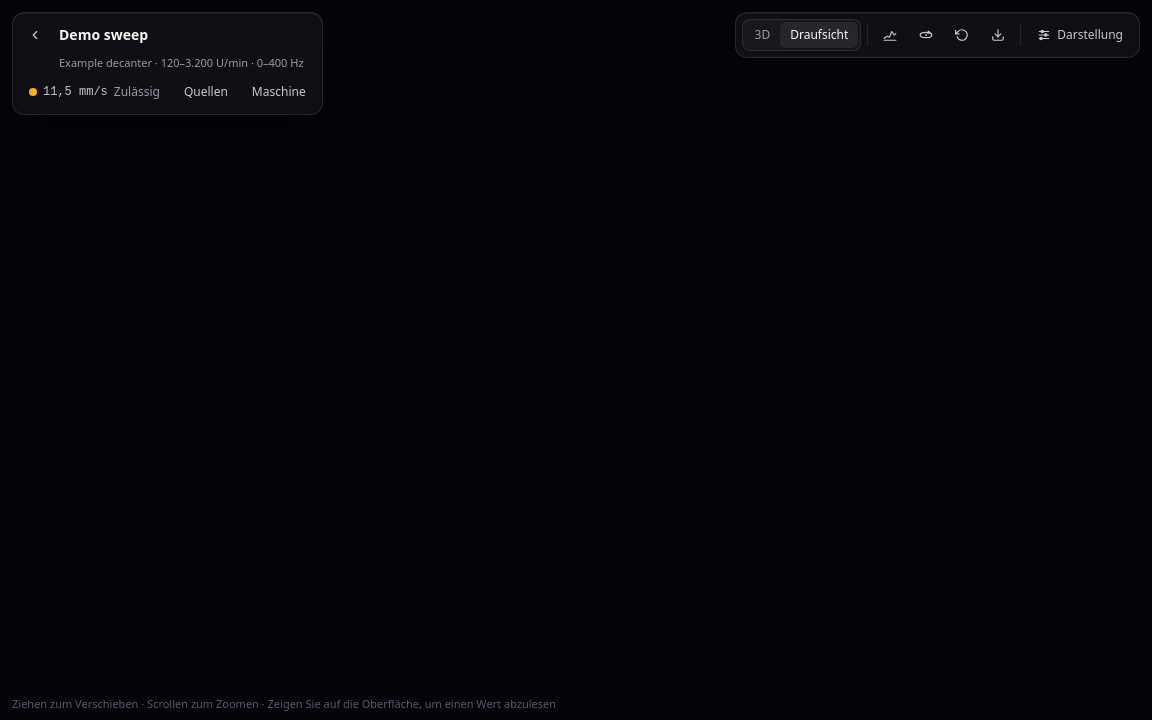
Test: Workspace › jumps from the rating to the bowl diameter
Click the tab with aria-label "Zustand" at x=94, y=92, box [19,76,170,108]
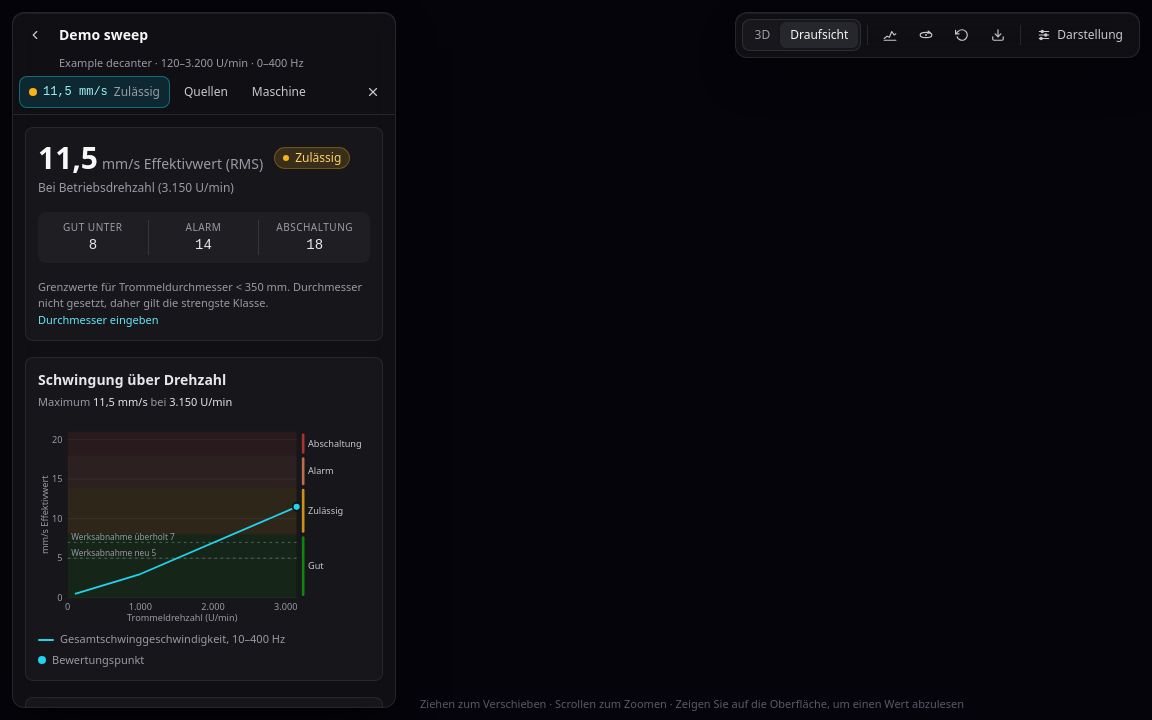
Click the button "Durchmesser eingeben" at x=98, y=320, box [38,312,158,328]
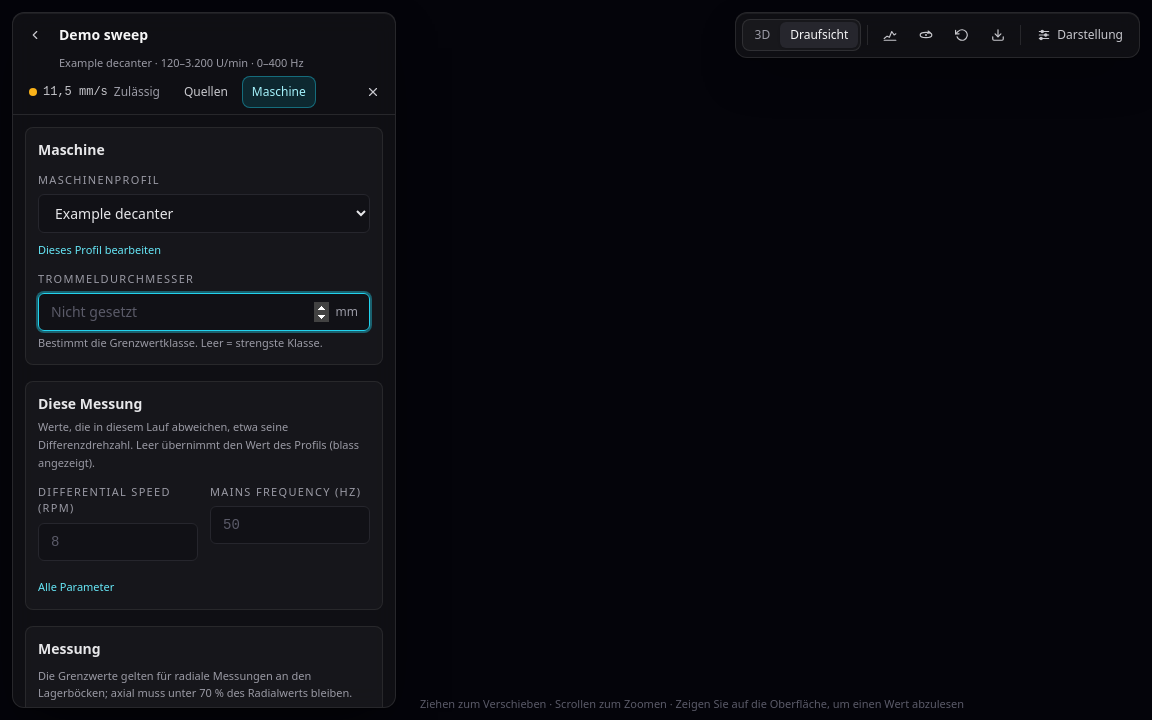
Expected: the panel "Maschine" is shown, [13,114,395,707]
